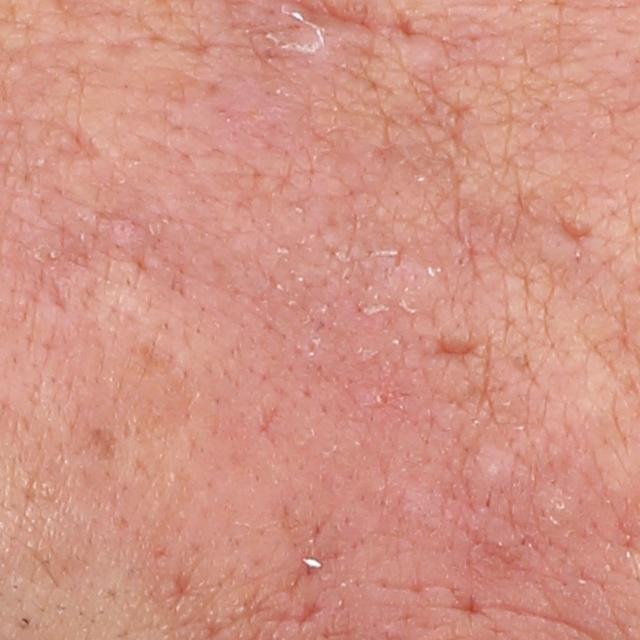atrophic_scar: (40, 114, 106, 166), (82, 422, 130, 470), (432, 333, 482, 364), (560, 215, 597, 243)
